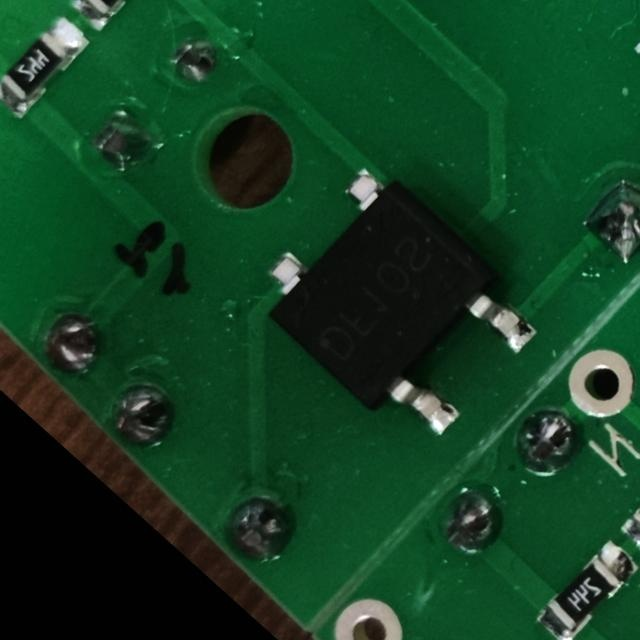chip-resistor: (529, 532, 640, 640), (0, 10, 93, 121)
ic: (238, 148, 554, 460)
